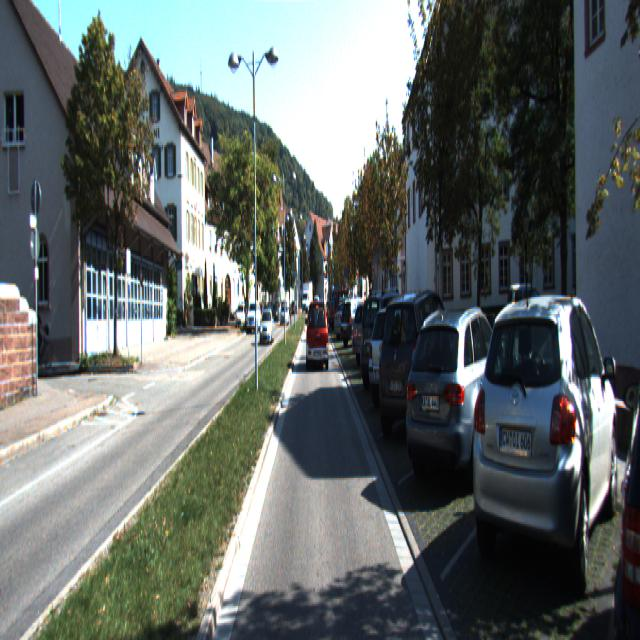Car: (469, 289, 625, 612), (401, 301, 515, 496), (376, 289, 462, 446), (366, 296, 443, 411), (620, 276, 640, 638), (357, 290, 423, 391), (350, 298, 401, 362), (340, 296, 377, 346), (307, 300, 329, 370), (332, 298, 363, 337), (329, 289, 355, 329), (260, 310, 274, 346), (247, 299, 261, 332), (236, 302, 245, 328)
